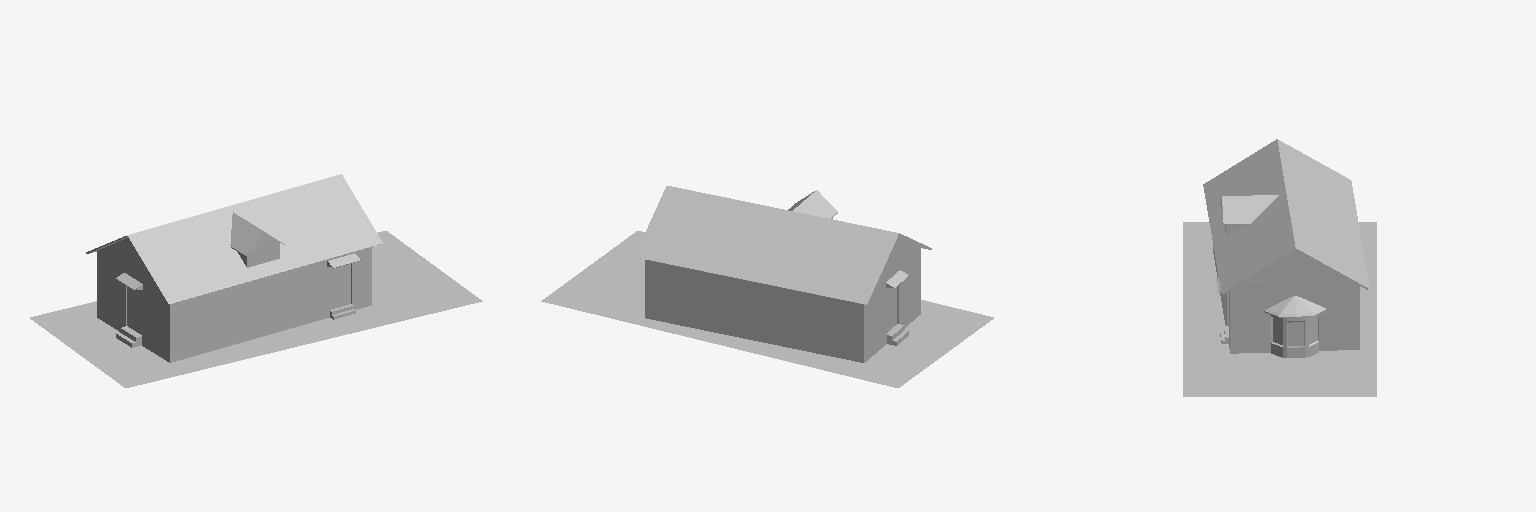
File: cottage_blender.obj
3 renders of one model, left to right at view 1: azimuth 30°, elevation 25°; view 2: azimuth 150°, elevation 25°; view 3: azimuth 270°, elevation 25°, orthographic.
Visible parts, largest first — view 1: Cube, Grid; view 2: Cube, Grid; view 3: Cube, Grid.
Boxes of the visible parts, x1=… form: Cube: x1=86, y1=174, x2=382, y2=362; Grid: x1=30, y1=231, x2=482, y2=387; Cube: x1=634, y1=186, x2=931, y2=362; Grid: x1=541, y1=231, x2=993, y2=387; Cube: x1=1203, y1=139, x2=1369, y2=357; Grid: x1=1183, y1=222, x2=1376, y2=396.
Size of the model in its own units: 51.32 by 14.69 by 24.09.